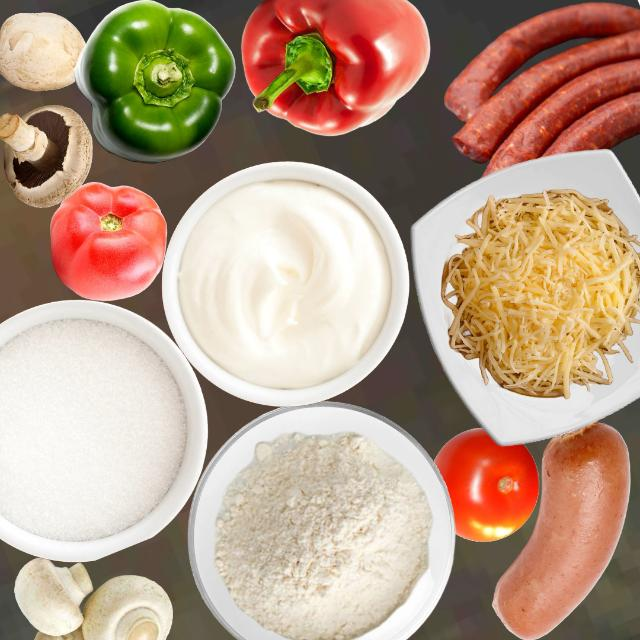Flour: (213, 430, 431, 638)
Sugar: (0, 317, 186, 541)
